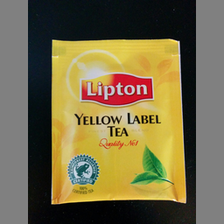tea: (48, 37, 187, 204)
